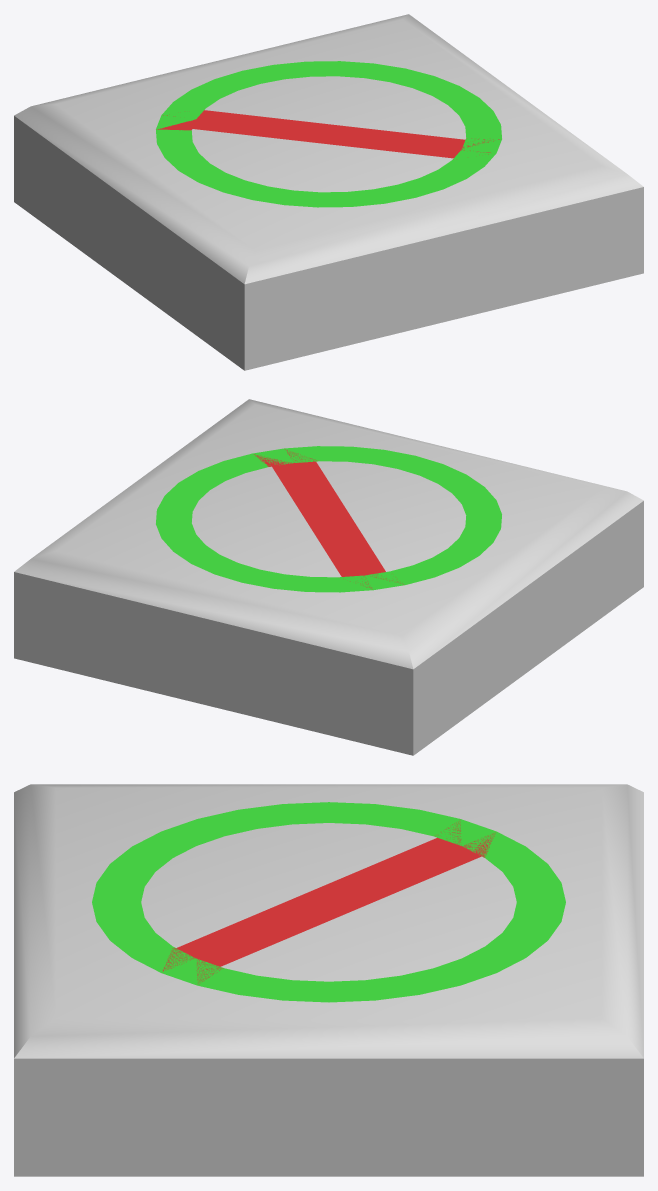
The model's file is ok-not.fbx.
3 views of the same model, one above another, from view 1: azimuth 30°, elevation 25°; view 2: azimuth 150°, elevation 25°; view 3: azimuth 270°, elevation 25° (orthographic). The views are drawn at different scales.
Visible parts, largest first — view 1: Tile, OK, NotOK; view 2: Tile, OK, NotOK; view 3: Tile, OK, NotOK.
Part boxes in pixels (<box>): Tile: <box>14,14,643,370</box>; OK: <box>156,61,501,207</box>; NotOK: <box>157,110,499,158</box>; Tile: <box>14,399,643,755</box>; OK: <box>156,446,501,592</box>; NotOK: <box>254,449,403,589</box>; Tile: <box>14,784,643,1176</box>; OK: <box>92,802,565,1002</box>; NotOK: <box>163,821,495,984</box>.
Size of the model in its own units: 200 by 49.49 by 200.
